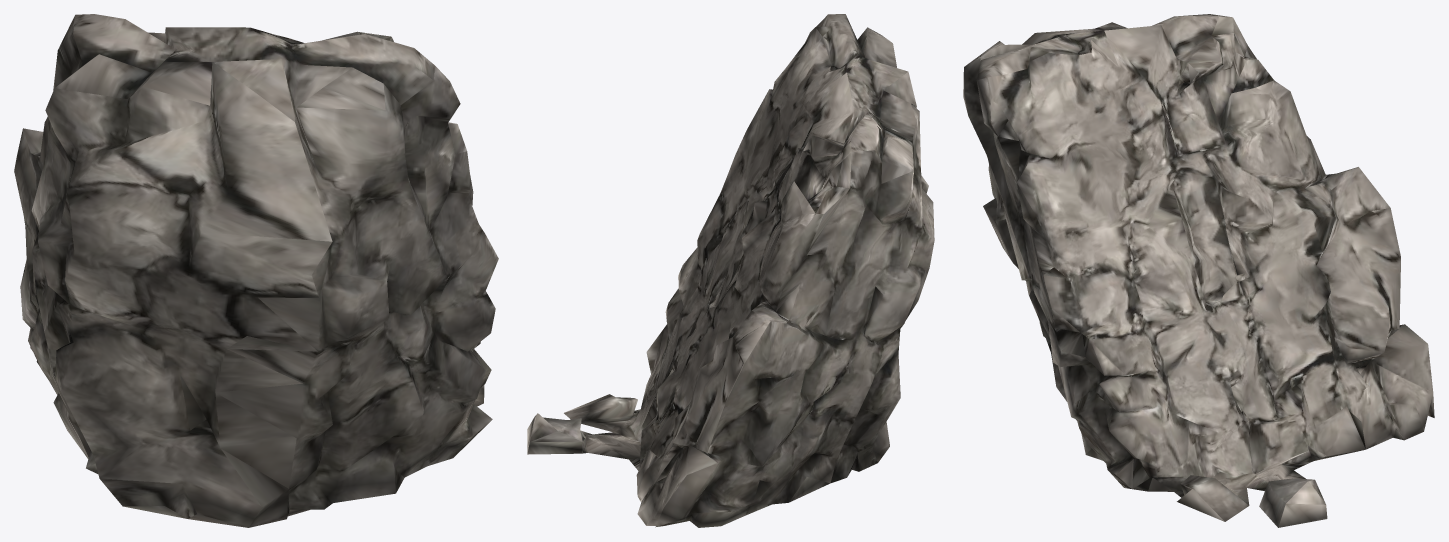
The model's file is crag_a_lod2.glb.
3 views of the same model, side by side, from view 1: azimuth 30°, elevation 25°; view 2: azimuth 150°, elevation 25°; view 3: azimuth 270°, elevation 25° (orthographic). The views are drawn at different scales.
Parts seen in each view (by area): view 1: crag_a_lod2; view 2: crag_a_lod2; view 3: crag_a_lod2.
Part boxes in pixels (x1=…): crag_a_lod2: x1=14, y1=14, x2=498, y2=527; crag_a_lod2: x1=527, y1=14, x2=934, y2=527; crag_a_lod2: x1=963, y1=14, x2=1434, y2=527.
Size of the model in its own units: 50.17 by 50.05 by 55.22.
Materials: 1 (1 with a texture image).
